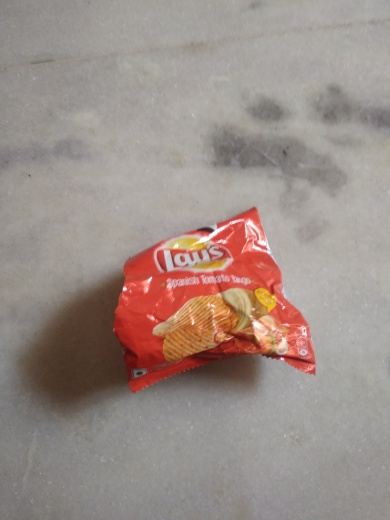lays: (110, 200, 333, 395)
